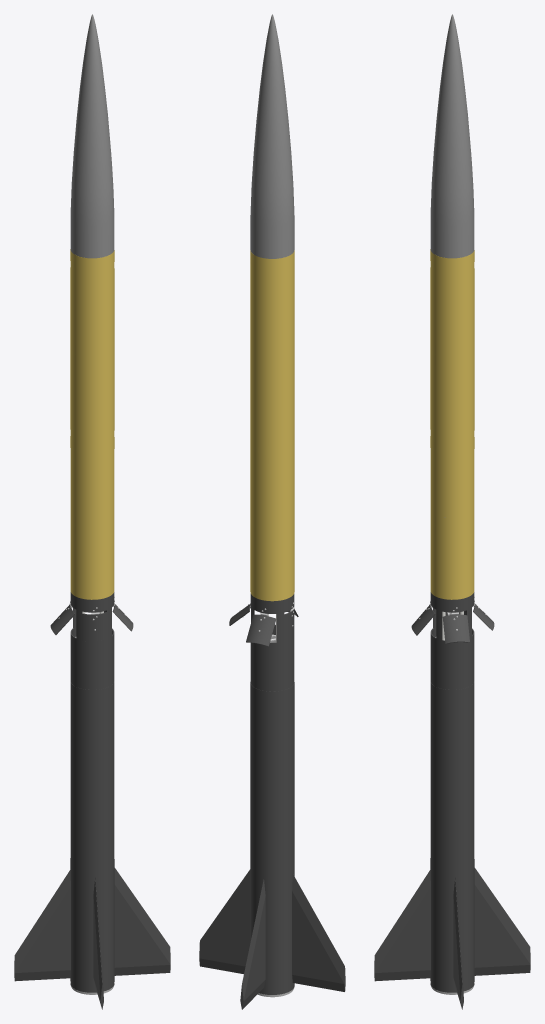
Rendered from rocket_test.glb.
3 views of the same model, side by side, from view 1: azimuth 90°, elevation 25°; view 2: azimuth 150°, elevation 25°; view 3: azimuth 270°, elevation 25° (orthographic).
Parts seen in each view (by area): view 1: Body1.125; view 2: Body1.125; view 3: Body1.125.
Boxes of the visible parts, x1,y1,x2,y2 form: Body1.125: (14, 14, 170, 1009); Body1.125: (199, 14, 345, 1009); Body1.125: (374, 14, 530, 1009).
Size of the model in its own units: 0.5585 by 3.83 by 0.5585.
